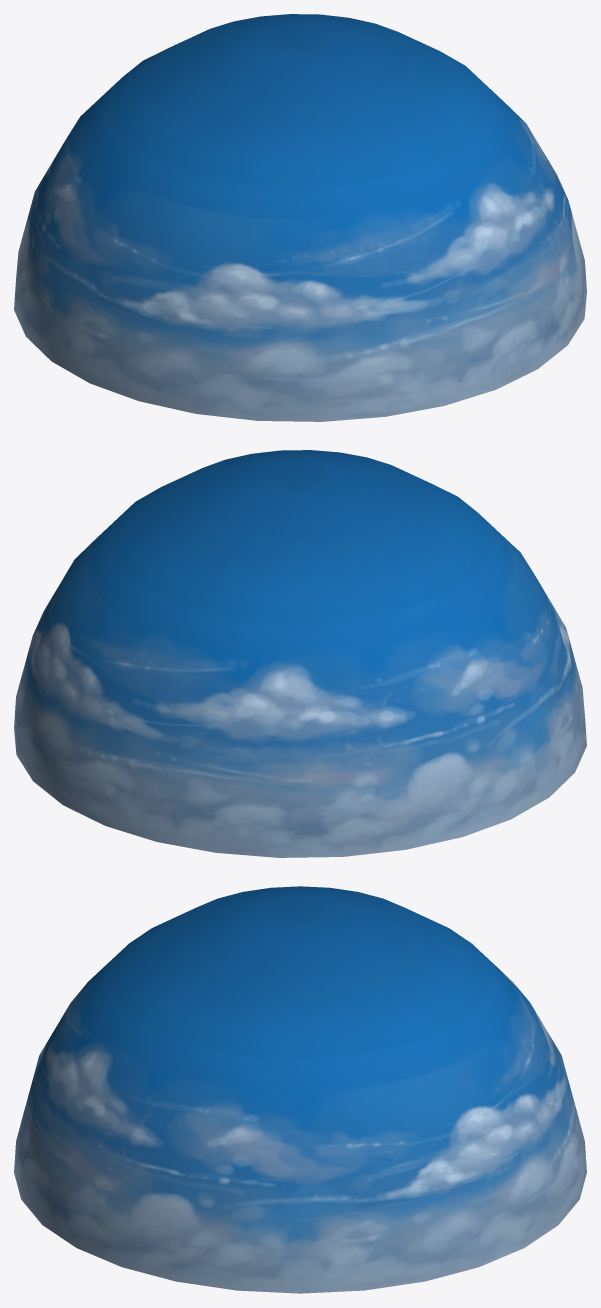
Rendered from sky 1.fbx.
3 views of the same model, one above another, from view 1: azimuth 30°, elevation 25°; view 2: azimuth 150°, elevation 25°; view 3: azimuth 270°, elevation 25° (orthographic).
Parts seen in each view (by area): view 1: Sky; view 2: Sky; view 3: Sky.
Boxes of the visible parts, <box> form: Sky: <box>14,14,586,421</box>; Sky: <box>14,450,586,857</box>; Sky: <box>14,886,586,1293</box>.
Size of the model in its own units: 13447 by 6724 by 13447.
Materials: 1 (1 with a texture image).
